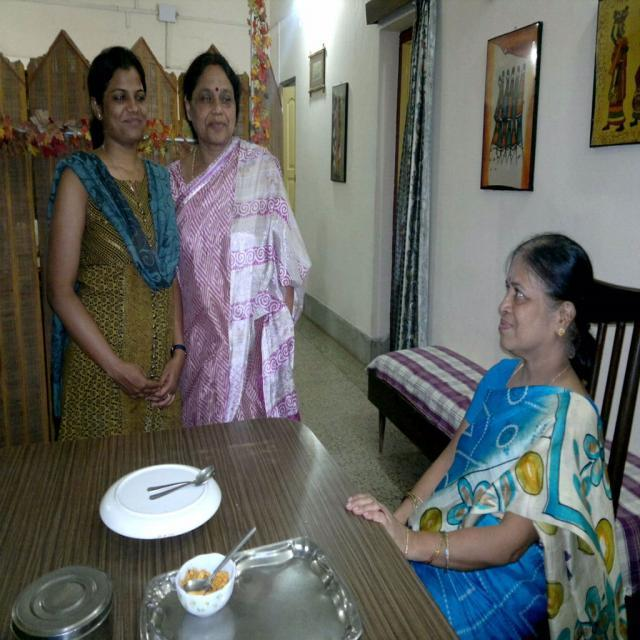ceramic plate: (106, 465, 218, 545)
